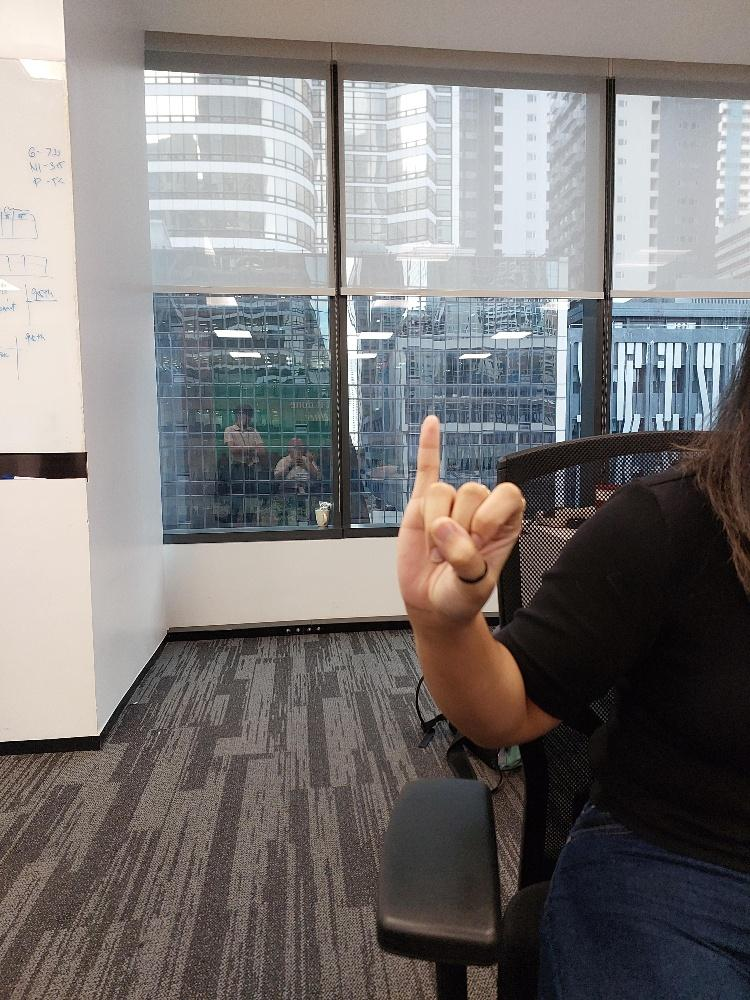i: (393, 411, 525, 633)
